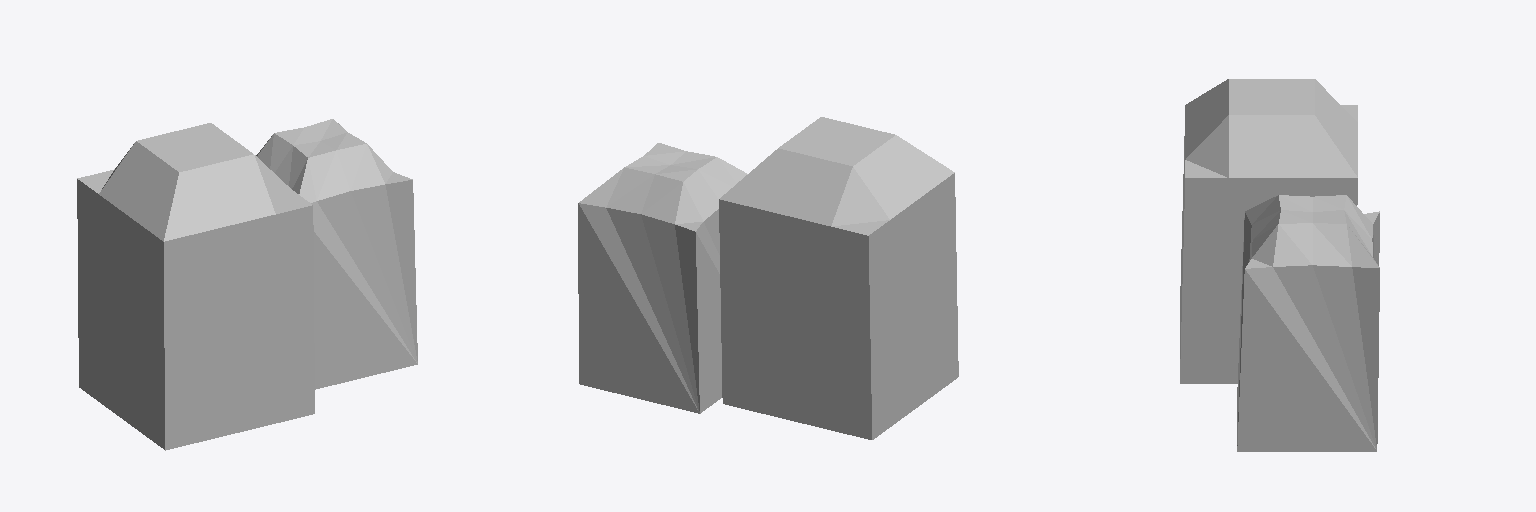
File: capital.obj
3 renders of one model, left to right at view 1: azimuth 30°, elevation 25°; view 2: azimuth 150°, elevation 25°; view 3: azimuth 270°, elevation 25°, orthographic.
Visible parts, largest first — view 1: Cube.001_Cube.002, Cube; view 2: Cube.001_Cube.002, Cube; view 3: Cube, Cube.001_Cube.002.
Boxes of the visible parts, x1=… form: Cube.001_Cube.002: x1=77, y1=123, x2=314, y2=450; Cube: x1=256, y1=119, x2=417, y2=389; Cube.001_Cube.002: x1=719, y1=117, x2=958, y2=439; Cube: x1=578, y1=143, x2=747, y2=413; Cube: x1=1237, y1=195, x2=1379, y2=451; Cube.001_Cube.002: x1=1180, y1=79, x2=1357, y2=383.
Size of the model in its own units: 3.76 by 3.25 by 2.32.